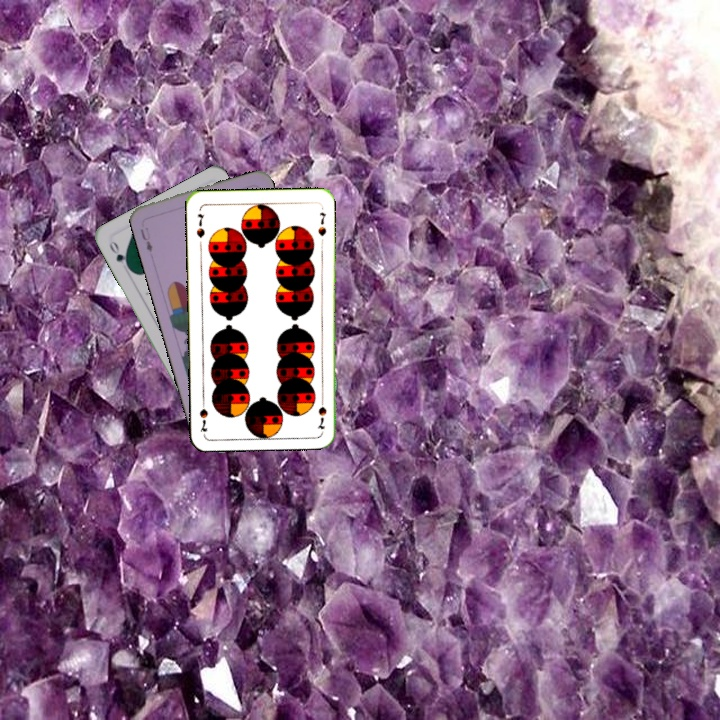EU: (136, 223, 155, 254)
GO: (105, 237, 133, 272)
S7: (314, 392, 329, 432), (192, 209, 207, 240)
